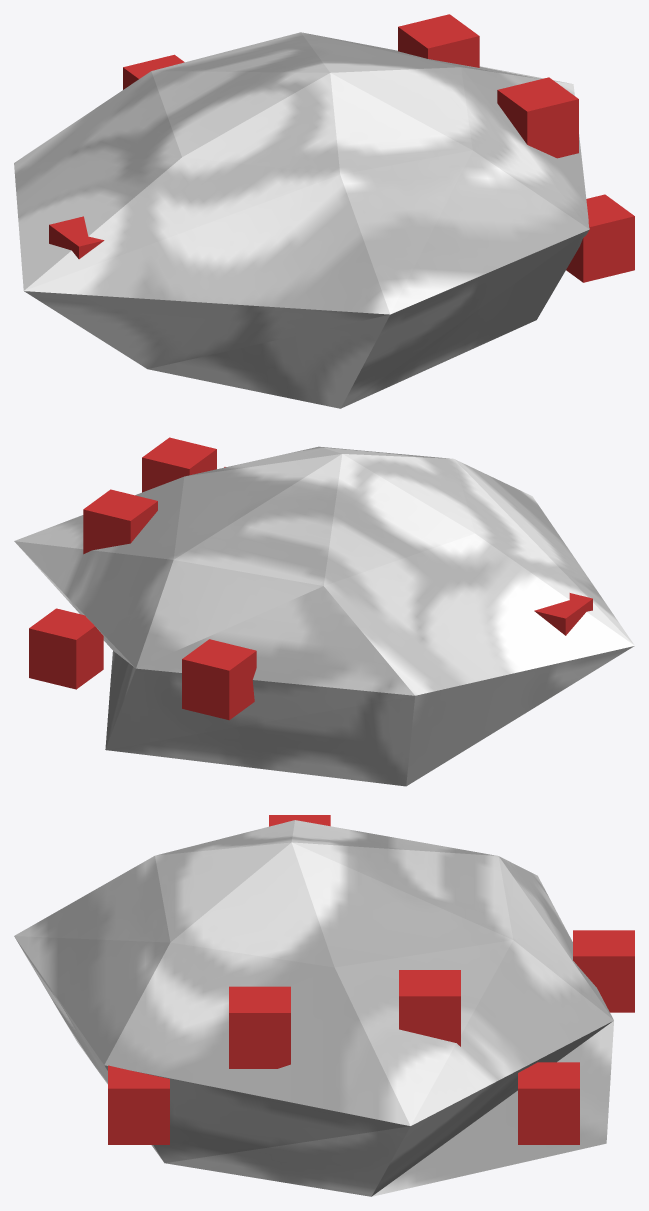
File: strawberry_2.obj
The picture shows the model from 3 angles, top to bottom: view 1: azimuth 30°, elevation 25°; view 2: azimuth 150°, elevation 25°; view 3: azimuth 270°, elevation 25°; orthographic projection. The views are drawn at different scales.
Parts seen in each view (by area): view 1: strawberry_2; view 2: strawberry_2; view 3: strawberry_2.
Boxes of the visible parts, left/top/right/bottom form: strawberry_2: left=14, top=14, right=634, bottom=408; strawberry_2: left=14, top=437, right=634, bottom=786; strawberry_2: left=14, top=815, right=634, bottom=1196.
Bounding box in the file's own units: 0.5936 × 0.22 × 0.501.
